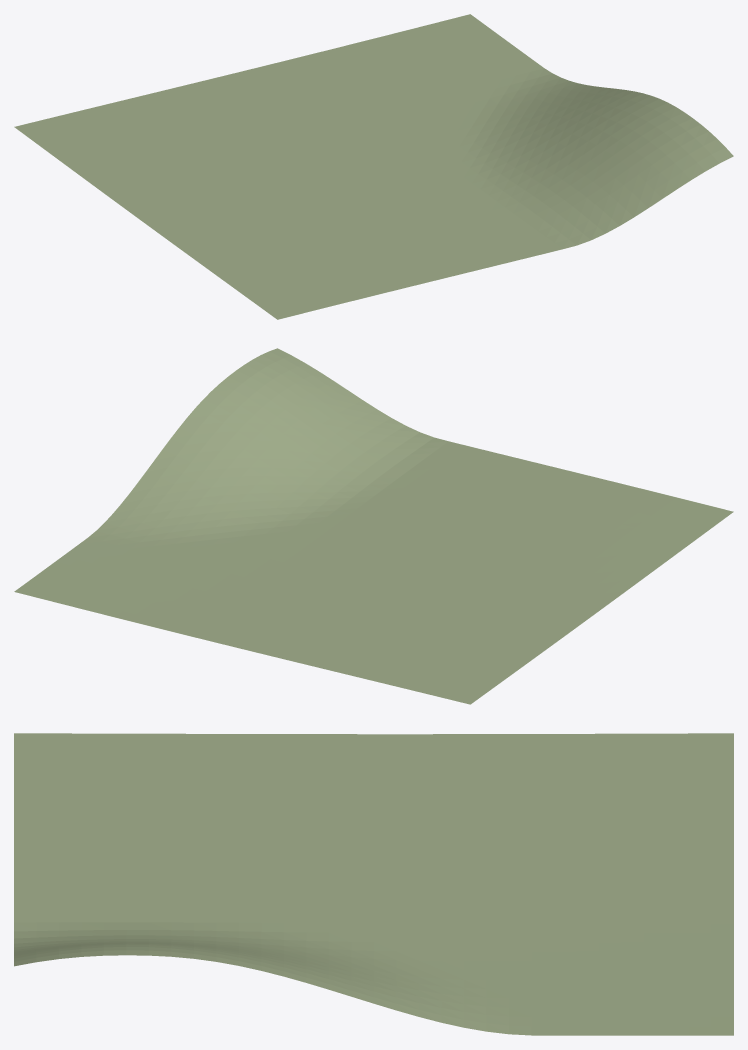
The model's file is desert-20-18.glb.
3 renders of one model, top to bottom at view 1: azimuth 30°, elevation 25°; view 2: azimuth 150°, elevation 25°; view 3: azimuth 270°, elevation 25°, orthographic. The views are drawn at different scales.
Parts seen in each view (by area): view 1: desert-20-18; view 2: desert-20-18; view 3: desert-20-18.
Boxes of the visible parts, x1,y1,x2,y2 form: desert-20-18: (14, 14, 733, 319); desert-20-18: (14, 348, 733, 704); desert-20-18: (14, 733, 733, 1035).
Size of the model in its own units: 512 by 65.21 by 512.
